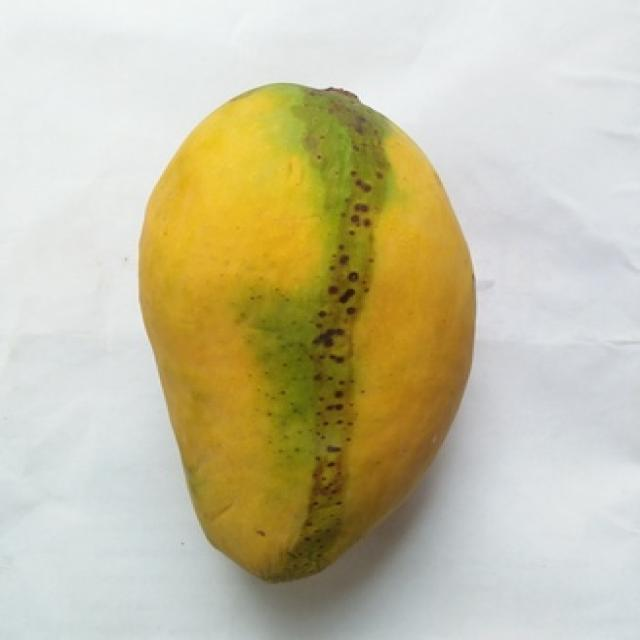Mango: (140, 85, 474, 581)
